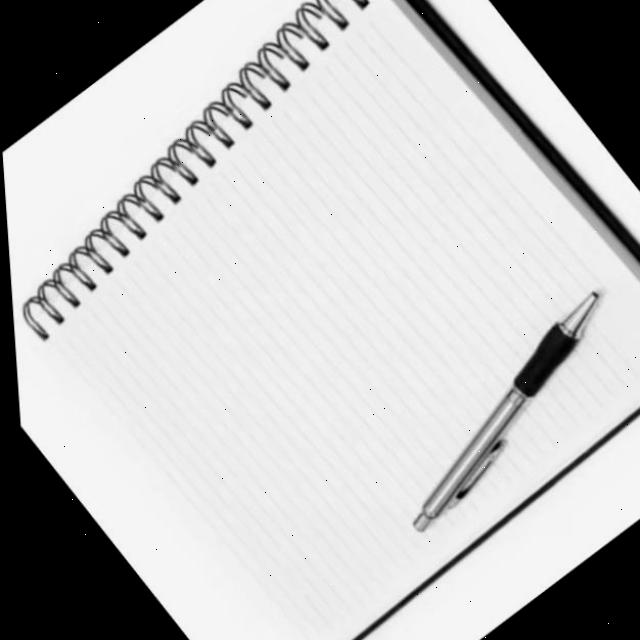pencil: (394, 276, 612, 540)
